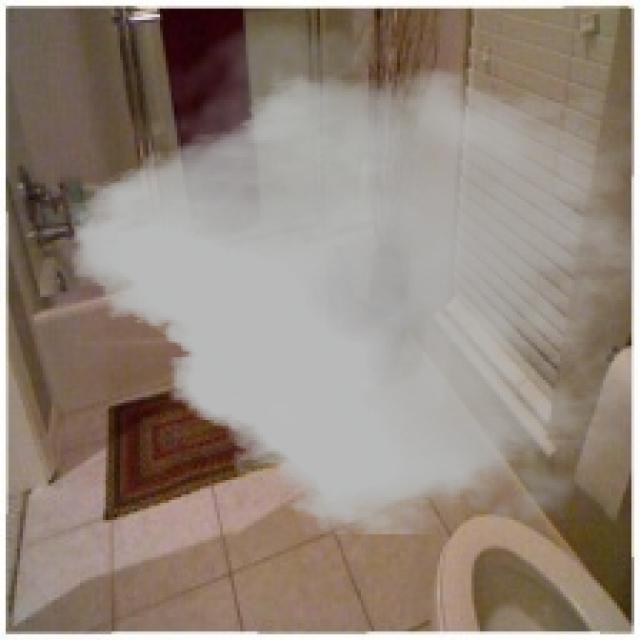Smoke: (71, 8, 634, 543)
